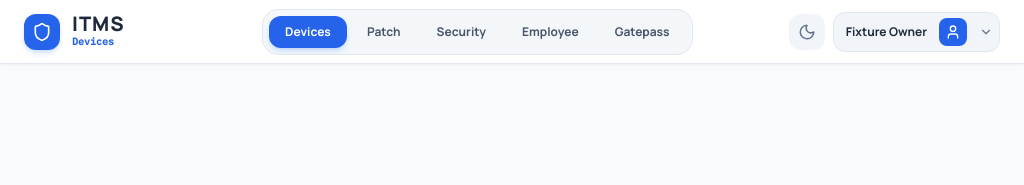
it: AppHeader account controls › shows the profile name instead of the login identity and clears it on logout
Step 1. Click the button "Fixture Owner" → (916, 32), box [833,12,1000,52]
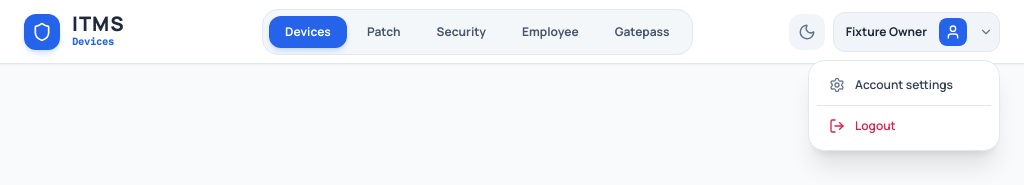
Step 2. Click the button "Logout" → (904, 126), box [817,110,991,142]
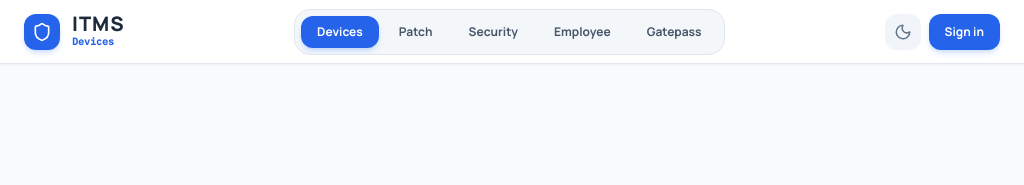
Expected: the button "Sign in" is shown, [929,14,1000,50]
